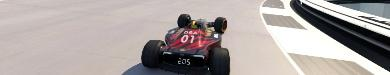Car: (140, 13, 230, 74)
Solid White and black: (258, 0, 389, 74)
